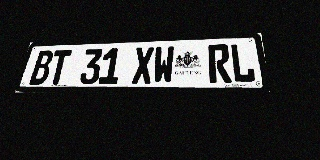1: (98, 48, 122, 84)
3: (79, 49, 103, 84)
B: (29, 50, 55, 85)
L: (230, 43, 256, 83)
R: (208, 44, 232, 83)
T: (46, 50, 72, 85)
W: (153, 46, 174, 84)
X: (132, 47, 154, 84)
